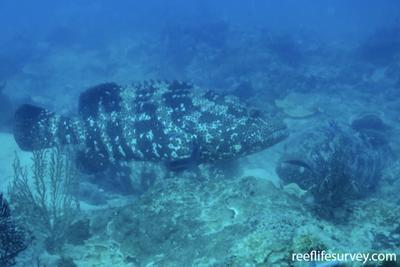Serranidae -Groupers-: (10, 78, 290, 175)
